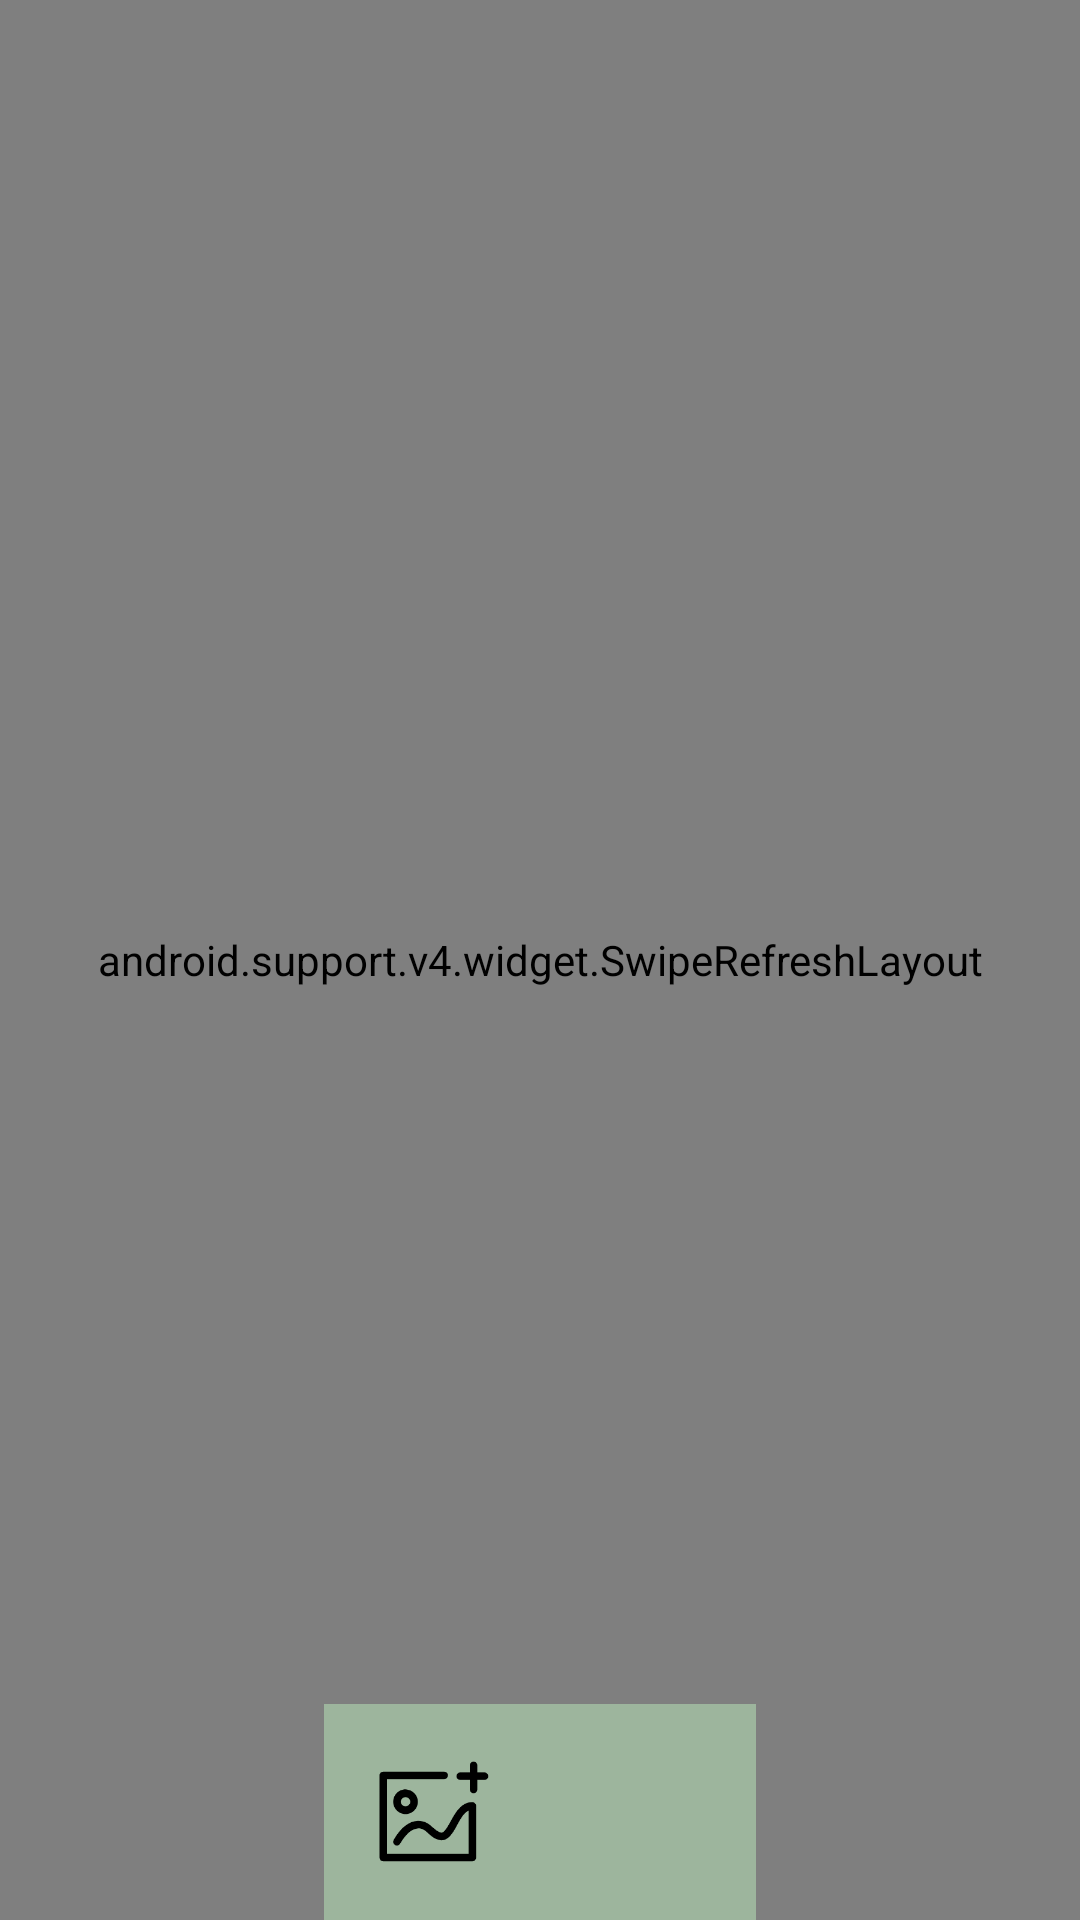

Locate icon controls on the screen. Image size 1080w x 1920h, boxes as (x1, y1, x2, y2).
add picture: (379, 1761, 489, 1862)
